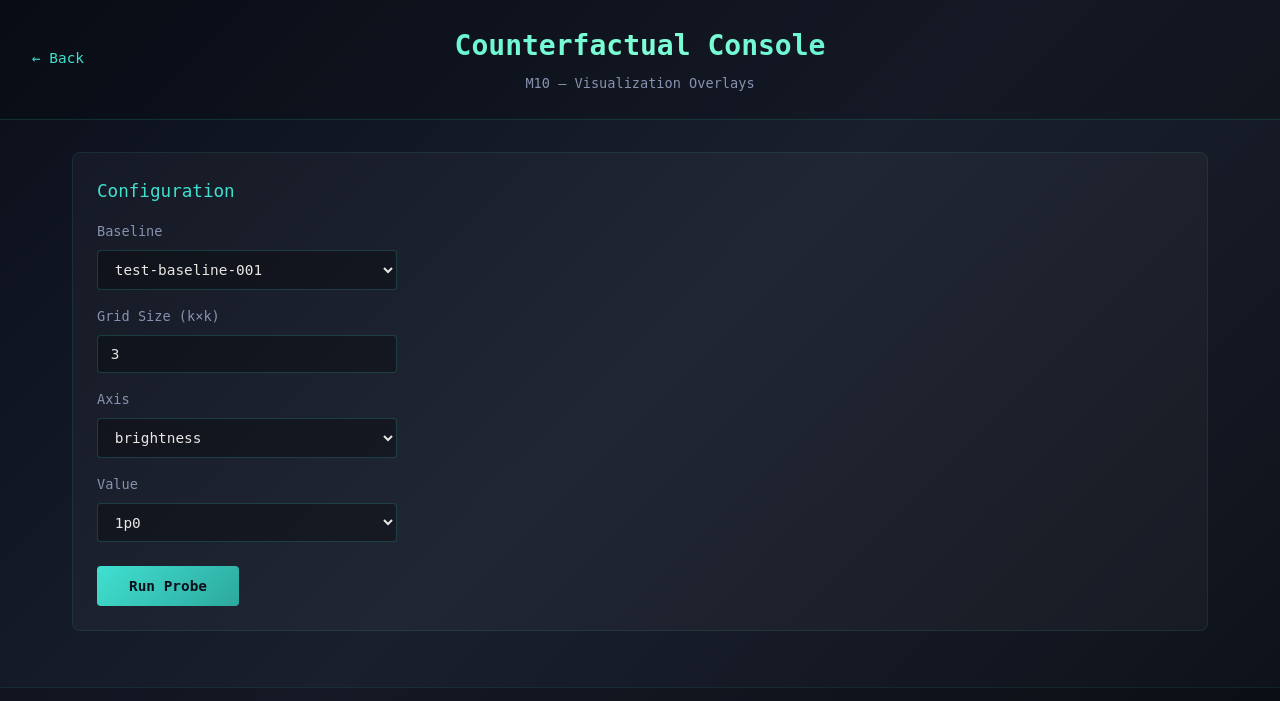
Test: CounterfactualConsole › Export Report (M11) › shows Export Report button after running probe
Run probe
Click the button "Run Probe": (168, 586) [97,566,239,606]
(page scrolled)
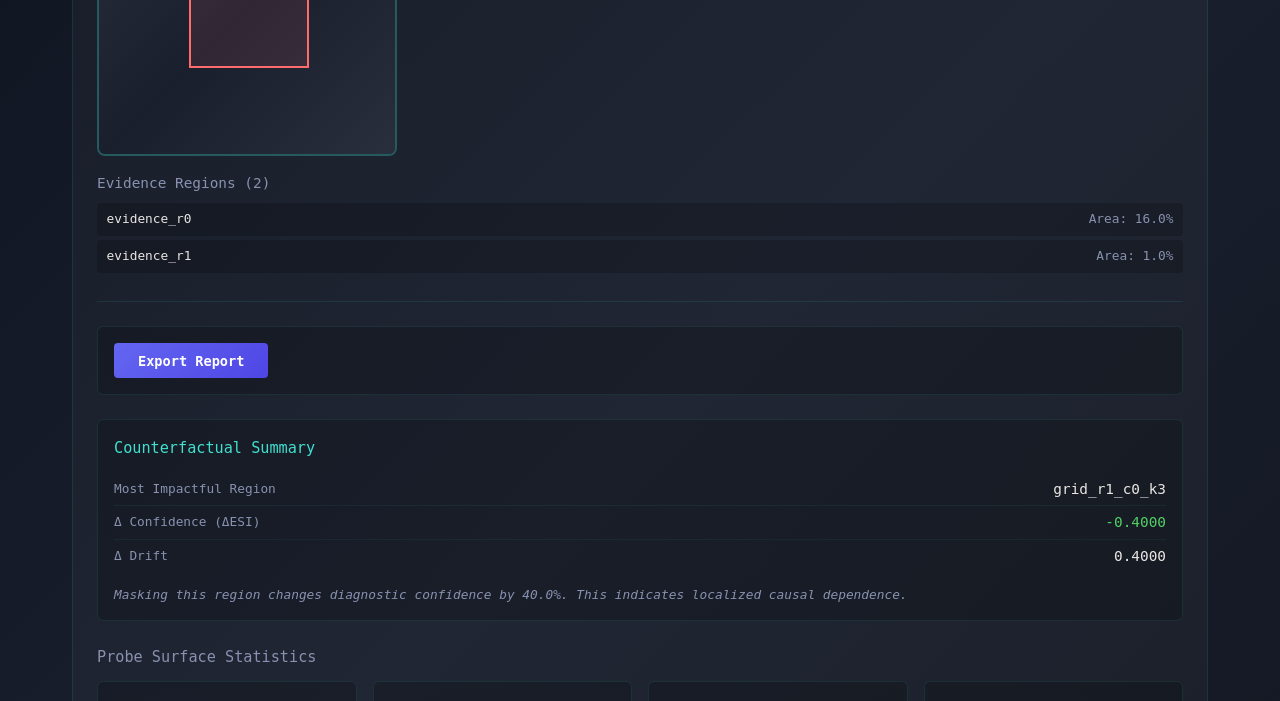
expect the button with test id "export-report-button" is shown: met, box [114,343,268,378]
